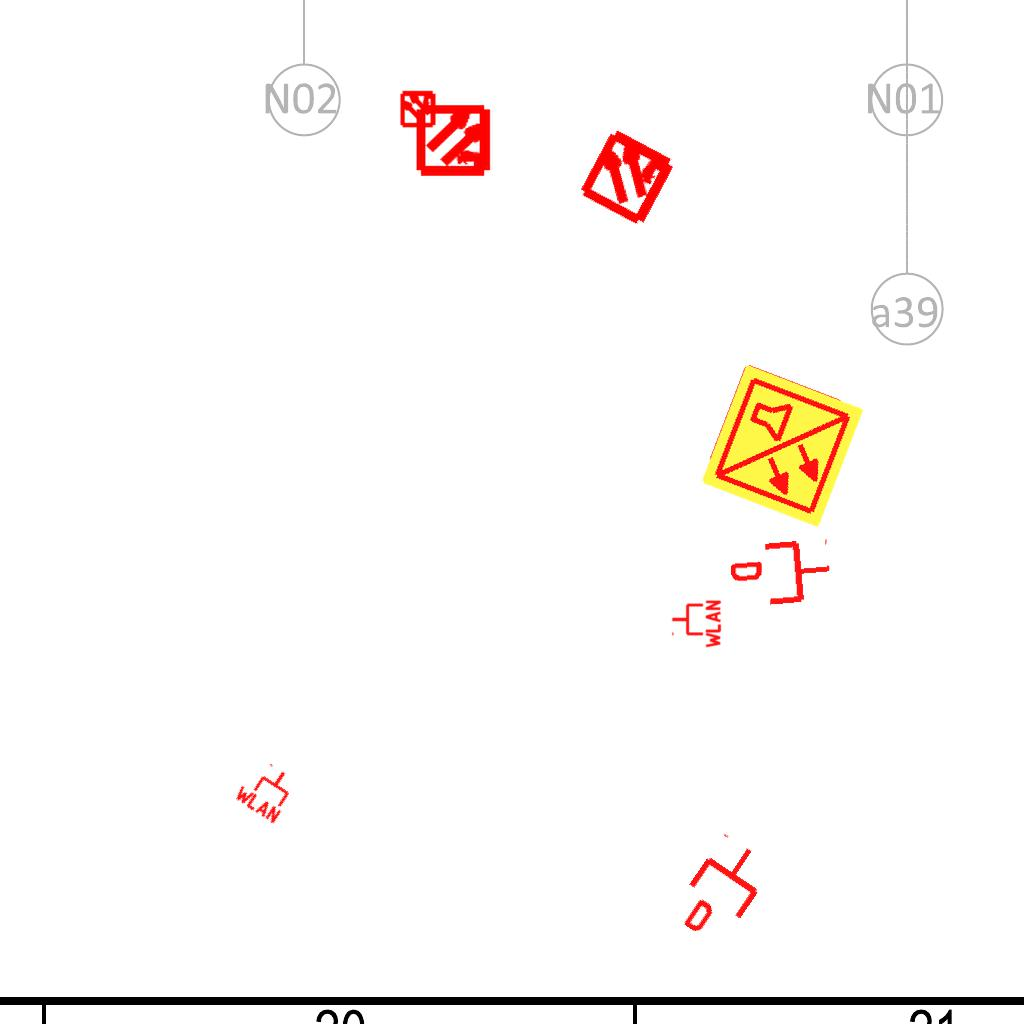Datenanschluss_einfach: (665, 829, 780, 951), (728, 534, 835, 612)
OKW_Multisensormelder_(Kombination_optischer_Rauch-Kahlenmonoxid_Waerme-Melder): (696, 360, 868, 532)
OT_Multisensormelder_(Kombination_RMO_WMD): (552, 99, 705, 252), (399, 84, 512, 197), (390, 80, 446, 136)
WLAN: (231, 754, 303, 826), (670, 598, 722, 650)
